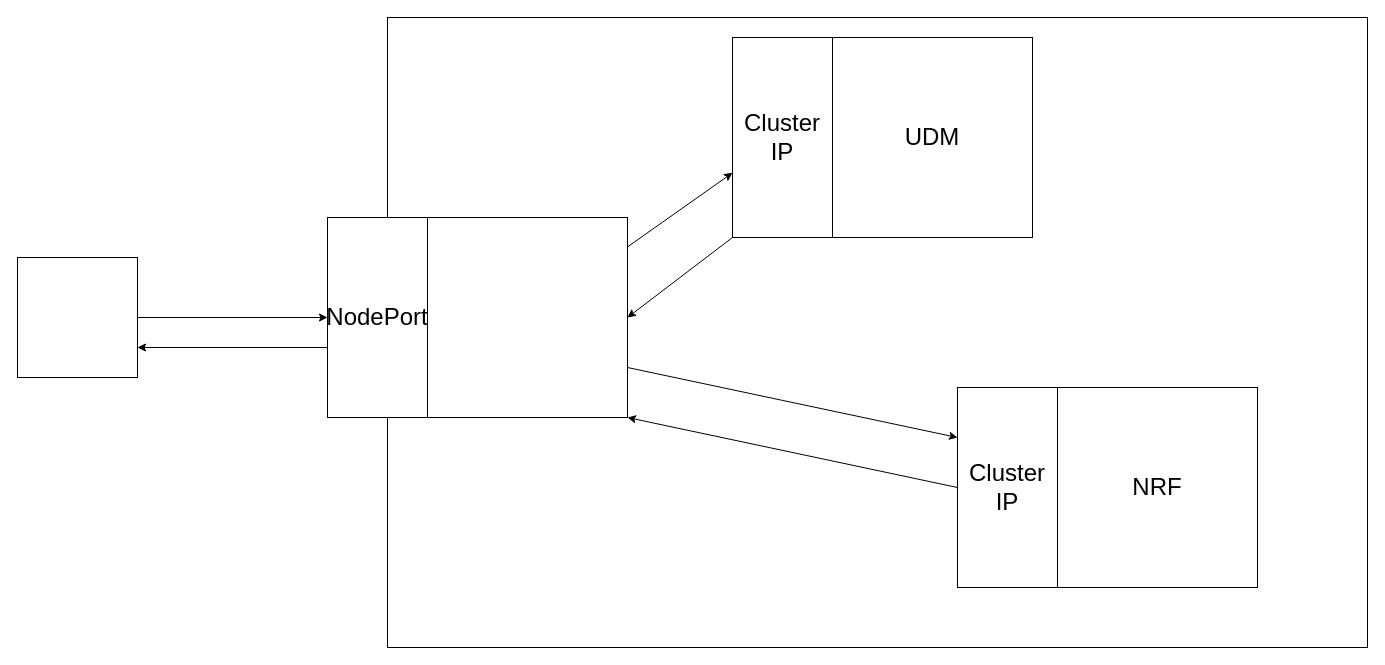
Image size: 1385x665. Some labels were removed from this diagram. The centre of each missing label's shape, as x and y in pixels:
"AMF" belongs at point 527,317.
"Client" belongs at point 77,317.
